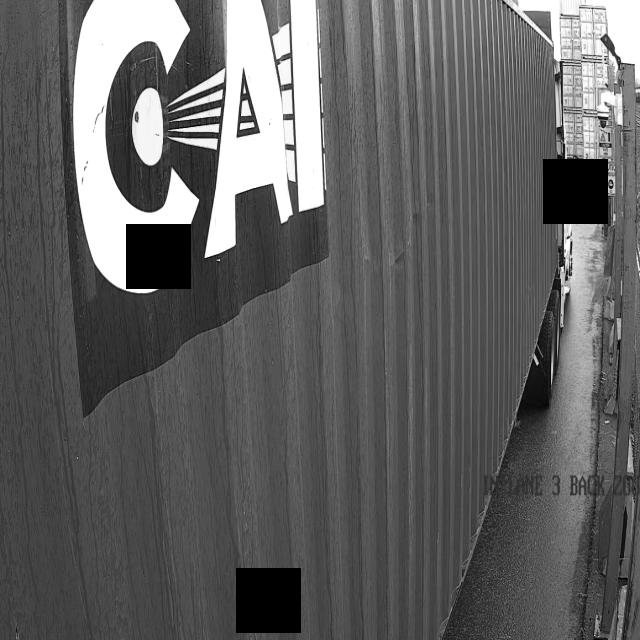container_company_logo: (46, 0, 411, 332)
truck_with_container: (0, 0, 569, 640)
